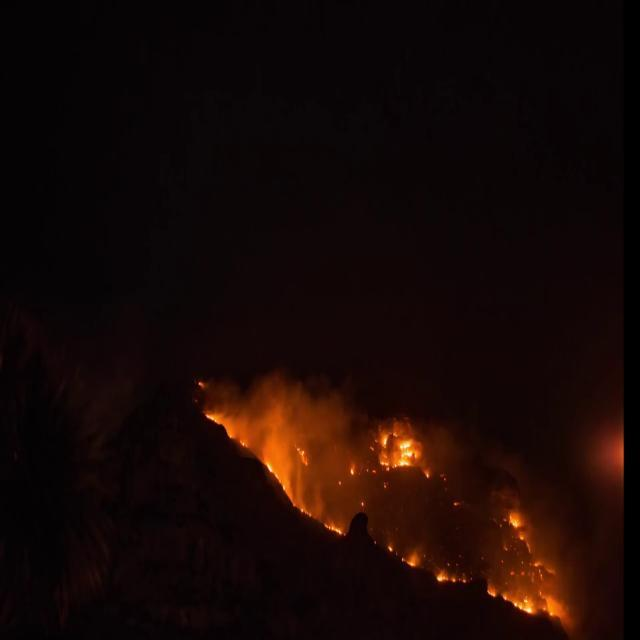Fire: (496, 585, 584, 621), (260, 434, 300, 486), (382, 420, 418, 472)
